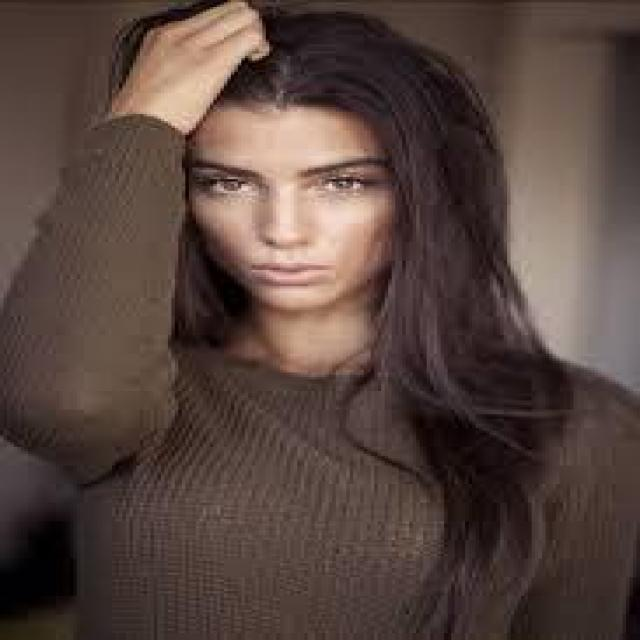person: (18, 9, 636, 636)
